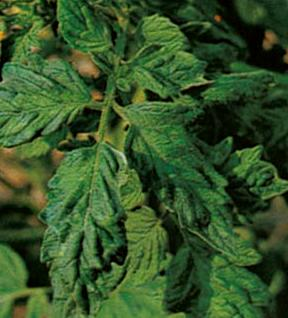Tomato leaf mosaic virus: (118, 98, 238, 254), (39, 147, 138, 318), (166, 236, 279, 318), (0, 61, 90, 157), (113, 53, 216, 96), (58, 0, 120, 62)
